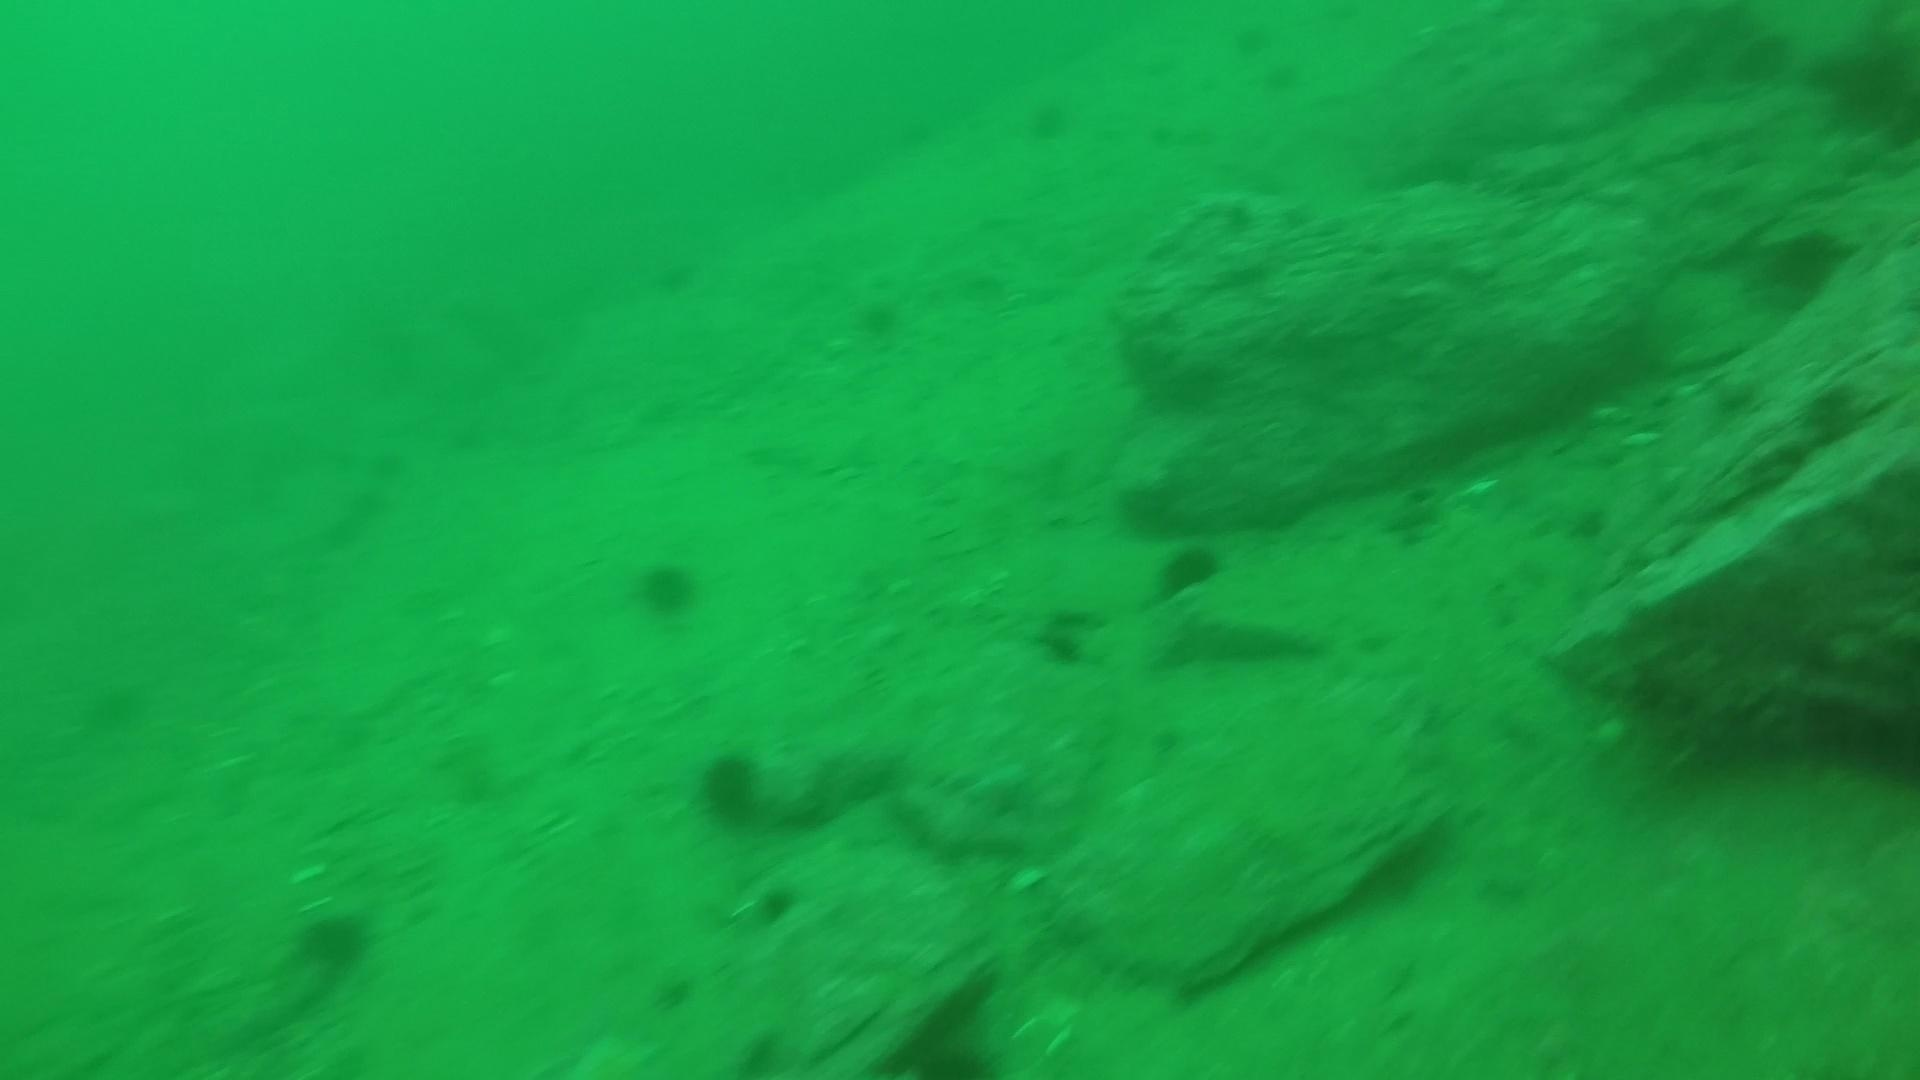echinus: (1813, 22, 1919, 150), (1751, 220, 1854, 307), (690, 742, 773, 831), (290, 902, 378, 978), (628, 553, 705, 622), (1151, 537, 1228, 605), (848, 289, 910, 345), (1021, 91, 1077, 146)
